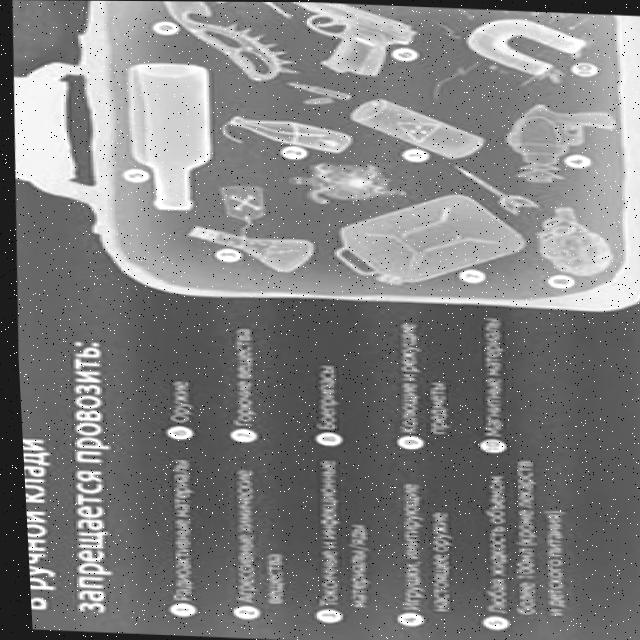grenade: (105, 57, 218, 214), (216, 107, 348, 160), (530, 204, 615, 279)
knife: (133, 1, 290, 83)
pistol: (500, 99, 617, 186), (282, 2, 417, 77)
